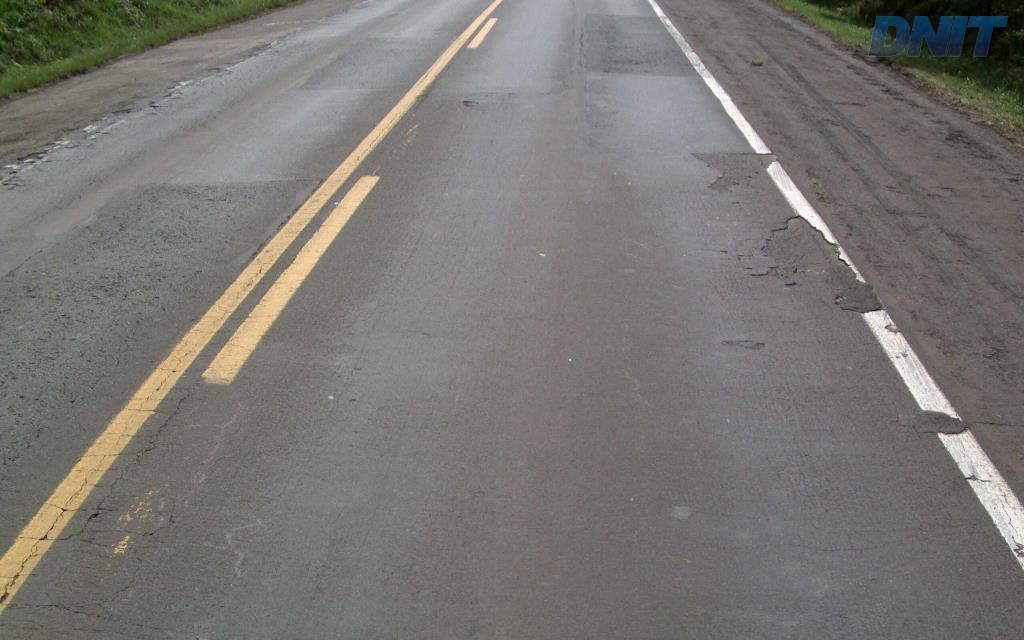pothole: (737, 210, 866, 321), (686, 144, 765, 194), (457, 97, 486, 108)
